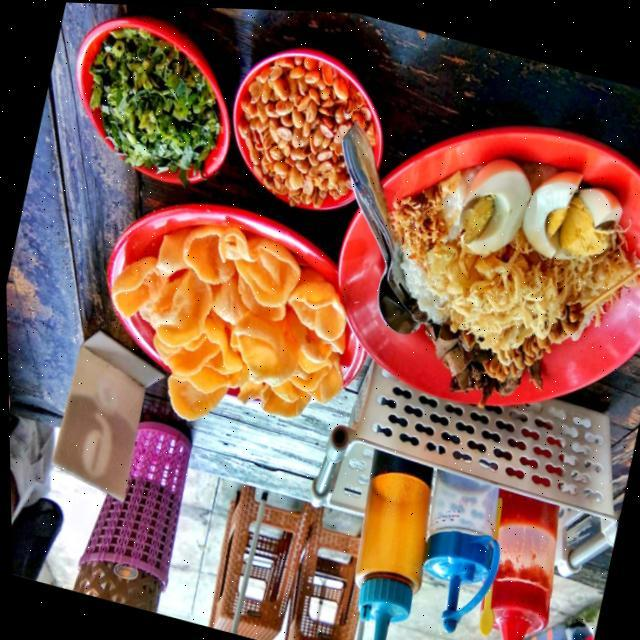bubur ayam: (348, 132, 640, 432)
mangkuk: (51, 2, 252, 199), (212, 31, 402, 229)
telur rebus: (448, 150, 536, 276), (546, 176, 629, 274), (514, 160, 584, 262)
